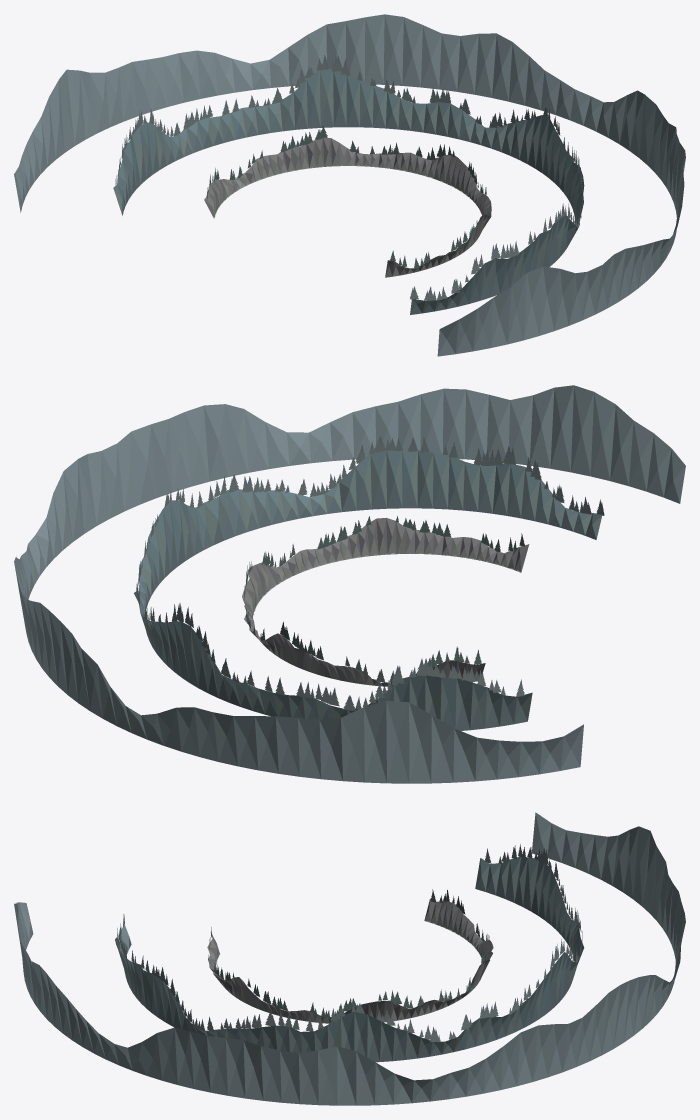
File: OuterSound.glb
3 views of the same model, one above another, from view 1: azimuth 30°, elevation 25°; view 2: azimuth 150°, elevation 25°; view 3: azimuth 270°, elevation 25° (orthographic). The views are drawn at different scales.
Visible parts, largest first — view 1: OuterSound; view 2: OuterSound; view 3: OuterSound.
Part boxes in pixels (x1,y1,x2,y2): OuterSound: (14, 14, 685, 356); OuterSound: (14, 385, 685, 783); OuterSound: (14, 812, 685, 1105).
Bounding box in the file's own units: 181 × 24.11 × 199.
